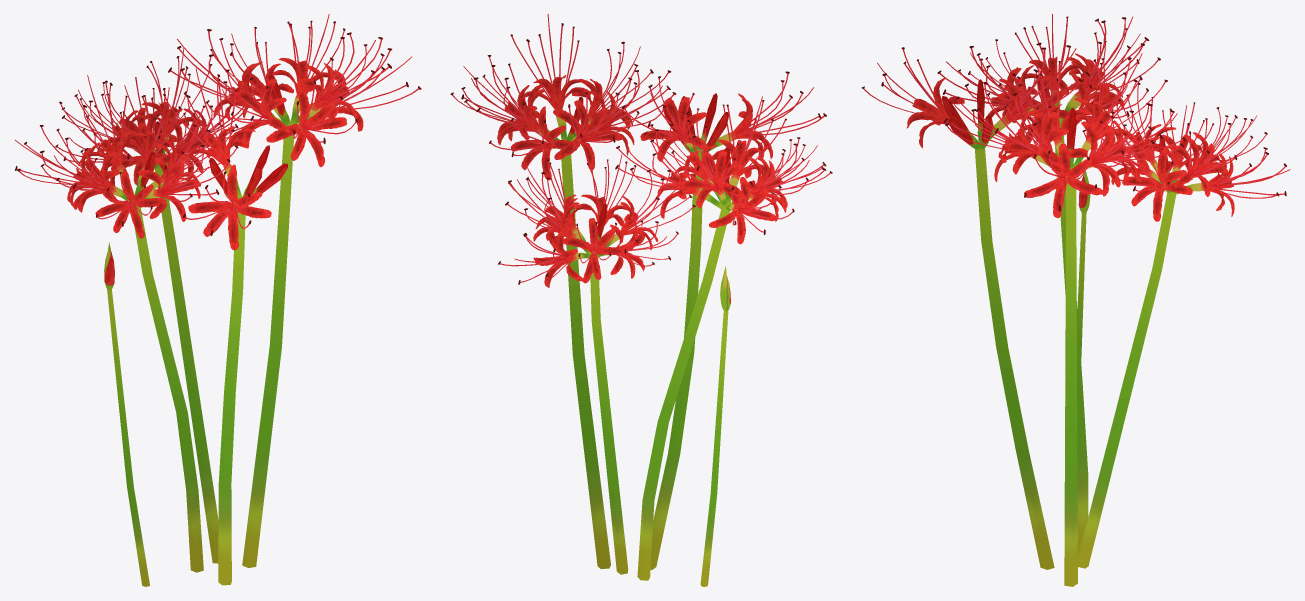
File: m_lycoris05.fbx
3 views of the same model, side by side, from view 1: azimuth 30°, elevation 25°; view 2: azimuth 150°, elevation 25°; view 3: azimuth 270°, elevation 25° (orthographic). The views are drawn at different scales.
Parts seen in each view (by area): view 1: mesh_lycoris05_LOD0; view 2: mesh_lycoris05_LOD0; view 3: mesh_lycoris05_LOD0.
Boxes of the visible parts, bbox=[...] form: mesh_lycoris05_LOD0: bbox=[15, 14, 421, 586]; mesh_lycoris05_LOD0: bbox=[450, 14, 832, 586]; mesh_lycoris05_LOD0: bbox=[861, 14, 1290, 586].
Size of what is drawn, in the model's own units: 0.2861 by 0.3917 by 0.2857.
